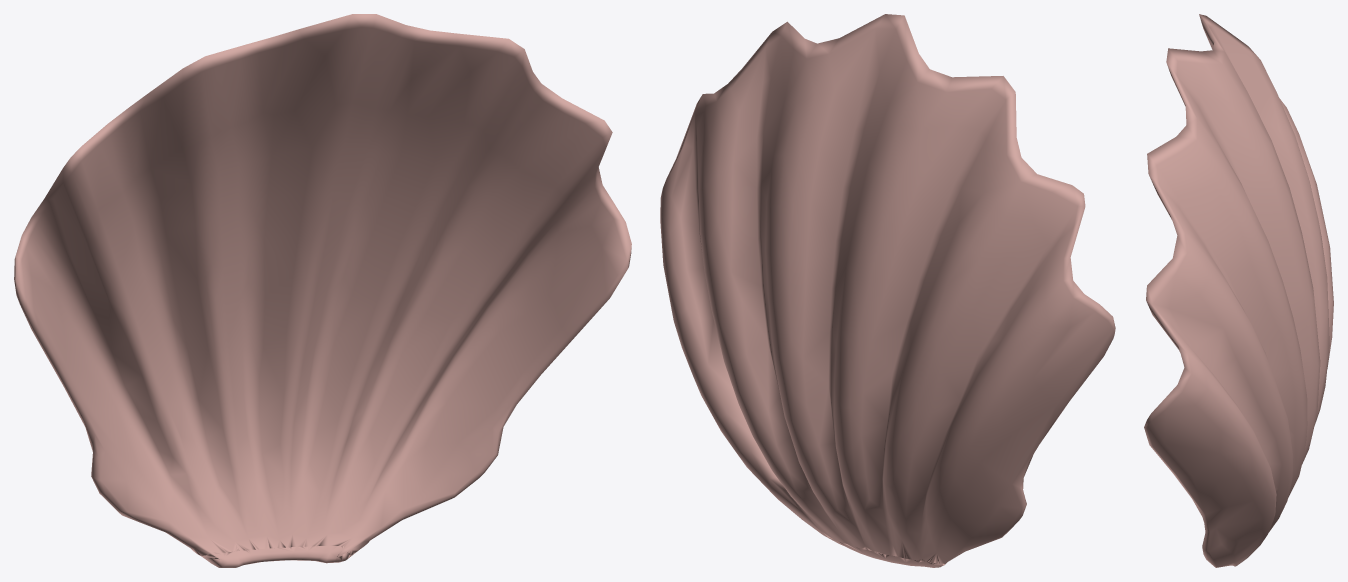
Rendered from seashell2.fbx.
3 renders of one model, left to right at view 1: azimuth 30°, elevation 25°; view 2: azimuth 150°, elevation 25°; view 3: azimuth 270°, elevation 25°, orthographic. The views are drawn at different scales.
Visible parts, largest first — view 1: Plane.001; view 2: Plane.001; view 3: Plane.001.
Part boxes in pixels (x1=…): Plane.001: x1=14, y1=14, x2=631, y2=567; Plane.001: x1=660, y1=14, x2=1115, y2=567; Plane.001: x1=1144, y1=14, x2=1333, y2=567.
Size of the model in its own units: 162 by 161 by 55.1.
